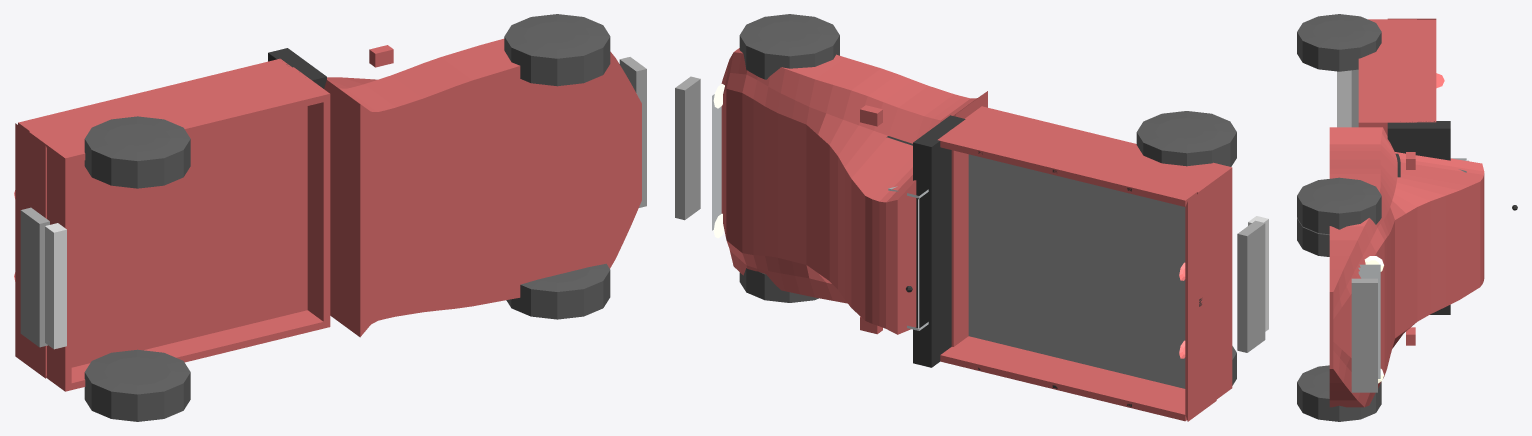
File: Vehicle_4_4.glb
The picture shows the model from 3 angles, left to right: view 1: azimuth 30°, elevation 25°; view 2: azimuth 150°, elevation 25°; view 3: azimuth 270°, elevation 25°; orthographic projection. The views are drawn at different scales.
Parts seen in each view (by area): view 1: Cabin, BedFloorUnder, BedLower_R, Wheel_-1.6_0.85, Wheel_-1.6_-0.85, Wheel_1.6_0.85, FrontFiller, Tailgate, Wheel_1.6_-0.85, BedLower_L, BedWallR, RearValence (+4 smaller); view 2: Cabin, BedFloor, GapFiller, BedLower_R, Tailgate, BedWallR, Wheel_1.6_0.85, Wheel_-1.6_0.85, BedWallL, RearValence, BumperR, BumperF (+5 smaller); view 3: Cabin, BedLower_R, Wheel_-1.6_0.85, BedWallR, Wheel_1.6_0.85, BumperF, Wheel_1.6_-0.85, GapFiller, StepBumper, Wheel_-1.6_-0.85, Grille, BumperR (+2 smaller).
Part boxes in pixels (x1=…): Cabin: x1=324, y1=38, x2=641, y2=337; BedFloorUnder: x1=49, y1=82, x2=312, y2=367; BedLower_R: x1=30, y1=67, x2=328, y2=164; Wheel_-1.6_0.85: x1=84, y1=116, x2=190, y2=188; Wheel_-1.6_-0.85: x1=84, y1=349, x2=190, y2=421; Wheel_1.6_0.85: x1=504, y1=14, x2=610, y2=86; FrontFiller: x1=292, y1=67, x2=330, y2=327; Tailgate: x1=15, y1=123, x2=46, y2=378; Wheel_1.6_-0.85: x1=506, y1=263, x2=610, y2=319; BedLower_L: x1=66, y1=310, x2=328, y2=391; BedWallR: x1=18, y1=58, x2=309, y2=143; RearValence: x1=29, y1=130, x2=71, y2=391; Cabin: x1=721, y1=48, x2=987, y2=334; BedFloor: x1=968, y1=154, x2=1185, y2=388; GapFiller: x1=913, y1=115, x2=965, y2=367; BedLower_R: x1=949, y1=106, x2=1230, y2=191; Tailgate: x1=1185, y1=180, x2=1216, y2=421; BedWallR: x1=938, y1=131, x2=1212, y2=206; Wheel_1.6_0.85: x1=739, y1=14, x2=839, y2=79; Wheel_-1.6_0.85: x1=1136, y1=111, x2=1236, y2=166; BedWallL: x1=940, y1=347, x2=1186, y2=421; RearValence: x1=1194, y1=166, x2=1232, y2=399; BumperR: x1=1237, y1=220, x2=1265, y2=352; BumperF: x1=675, y1=76, x2=700, y2=220; Cabin: x1=1329, y1=127, x2=1484, y2=407; BedLower_R: x1=1358, y1=20, x2=1416, y2=122; Wheel_-1.6_0.85: x1=1297, y1=14, x2=1381, y2=71; BedWallR: x1=1387, y1=20, x2=1436, y2=122; Wheel_1.6_0.85: x1=1297, y1=177, x2=1381, y2=234; BumperF: x1=1351, y1=278, x2=1377, y2=392; Wheel_1.6_-0.85: x1=1297, y1=365, x2=1381, y2=421; GapFiller: x1=1387, y1=121, x2=1450, y2=314; StepBumper: x1=1337, y1=70, x2=1351, y2=127; Wheel_-1.6_-0.85: x1=1297, y1=218, x2=1329, y2=256; Grille: x1=1358, y1=264, x2=1380, y2=378; BumperR: x1=1351, y1=69, x2=1358, y2=127.
Size of the model in its own units: 4.63 by 1.91 by 1.82.
